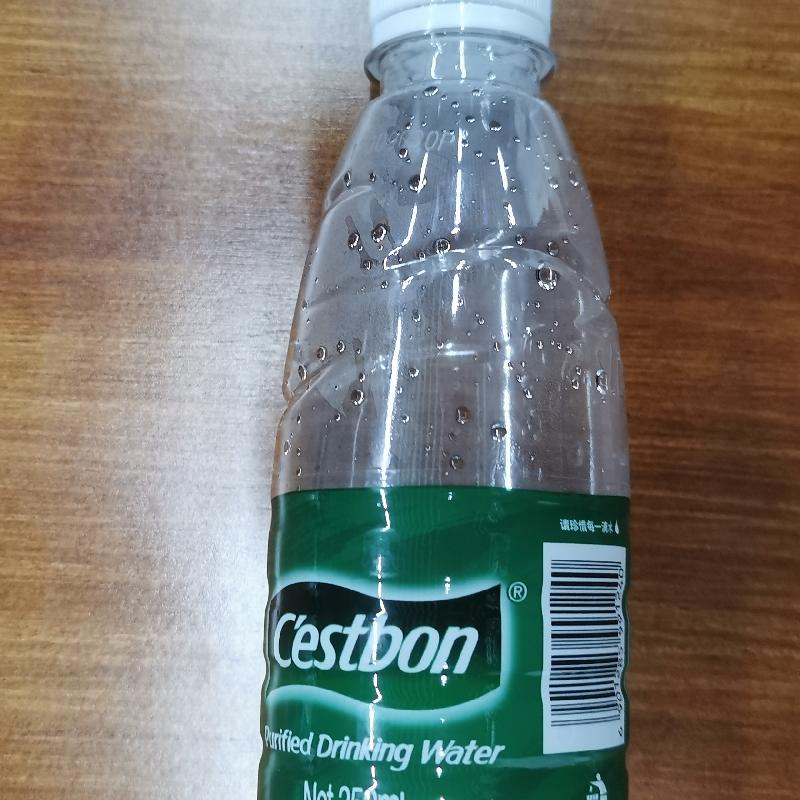bottles: (256, 2, 639, 799)
